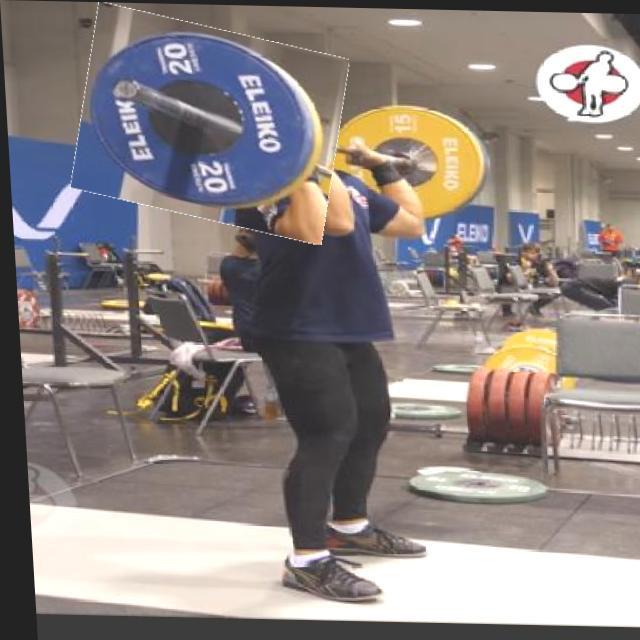barbell: (69, 13, 349, 233)
